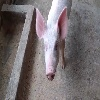heo: (34, 6, 68, 82)
